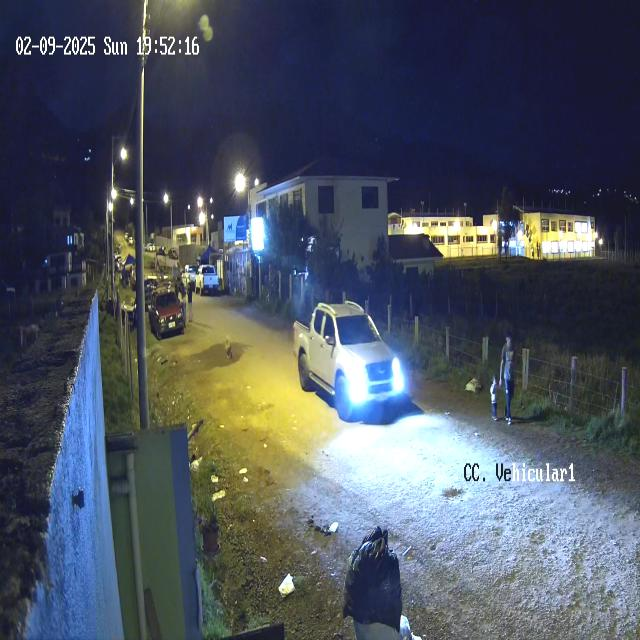CMT: (292, 301, 403, 422)
